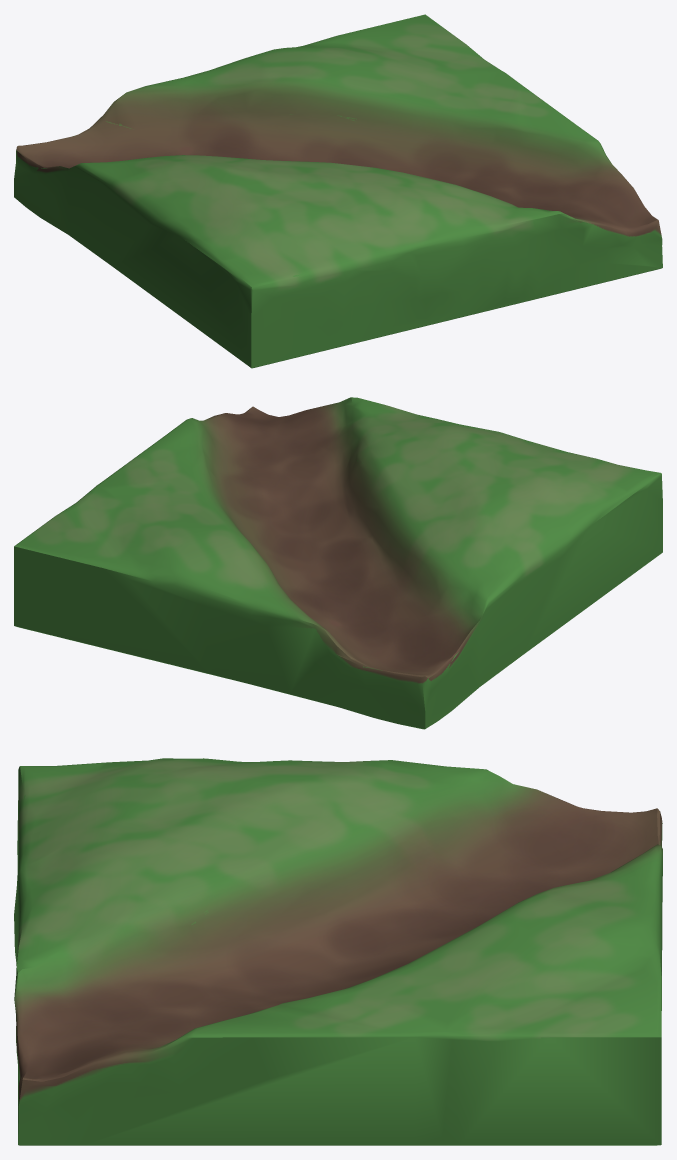
The model's file is Escena6.fbx.
The picture shows the model from 3 angles, top to bottom: view 1: azimuth 30°, elevation 25°; view 2: azimuth 150°, elevation 25°; view 3: azimuth 270°, elevation 25°; orthographic projection. The views are drawn at different scales.
Visible parts, largest first — view 1: escena6; view 2: escena6; view 3: escena6.
Part boxes in pixels (left/top/right/bottom): escena6: left=14, top=14, right=662, bottom=368; escena6: left=14, top=397, right=662, bottom=729; escena6: left=14, top=758, right=662, bottom=1145.
Size of the model in its own units: 201 by 52.3 by 202.
Materials: 1 (1 with a texture image).
